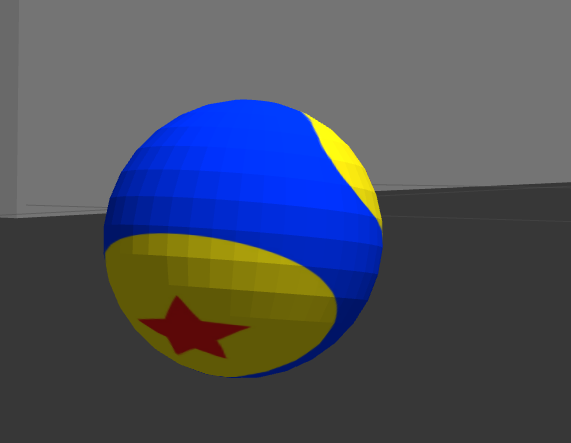toy story ball: (102, 99, 384, 379)
